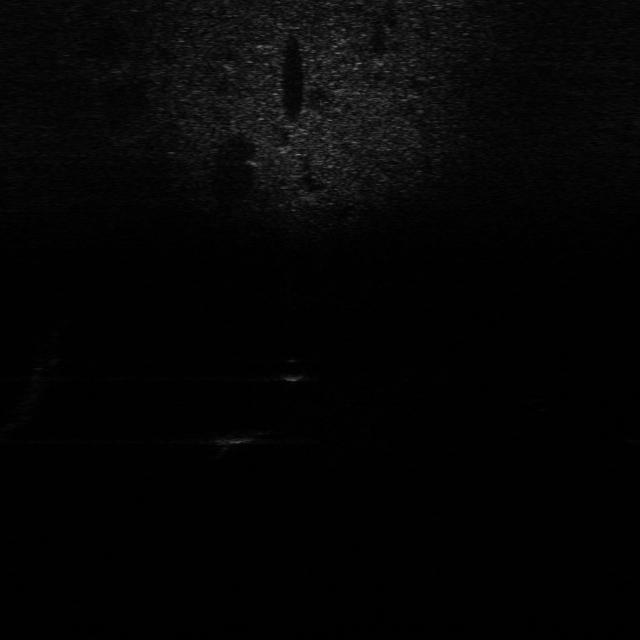ball: (274, 356, 317, 384)
square cage: (207, 425, 279, 451)
